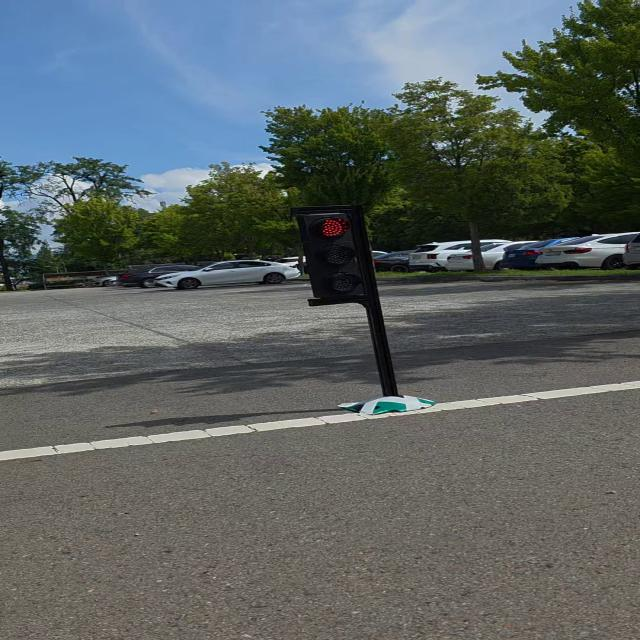red: (296, 207, 381, 305)
